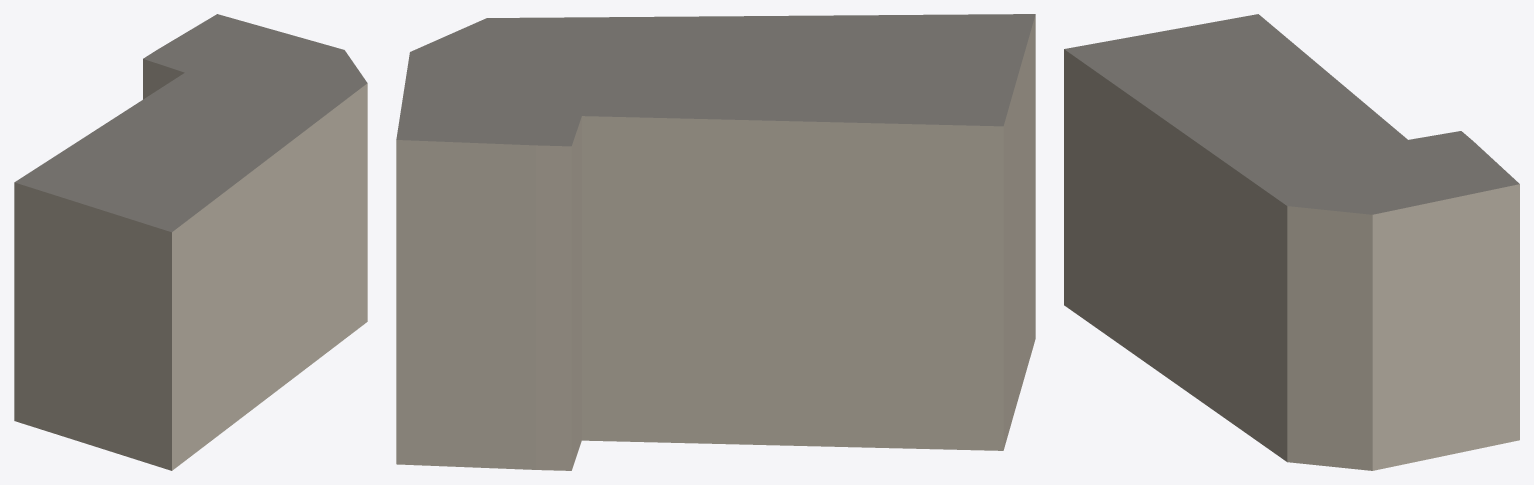
3 renders of one model, left to right at view 1: azimuth 30°, elevation 25°; view 2: azimuth 150°, elevation 25°; view 3: azimuth 270°, elevation 25°, orthographic. The views are drawn at different scales.
Visible parts, largest first — view 1: HP-w369238015; view 2: HP-w369238015; view 3: HP-w369238015.
Part boxes in pixels (x1,y1,x2,y2): HP-w369238015: (14, 14, 367, 470); HP-w369238015: (396, 14, 1035, 470); HP-w369238015: (1064, 14, 1519, 470).
Bounding box in the file's own units: 30.26 × 18 × 29.04.
